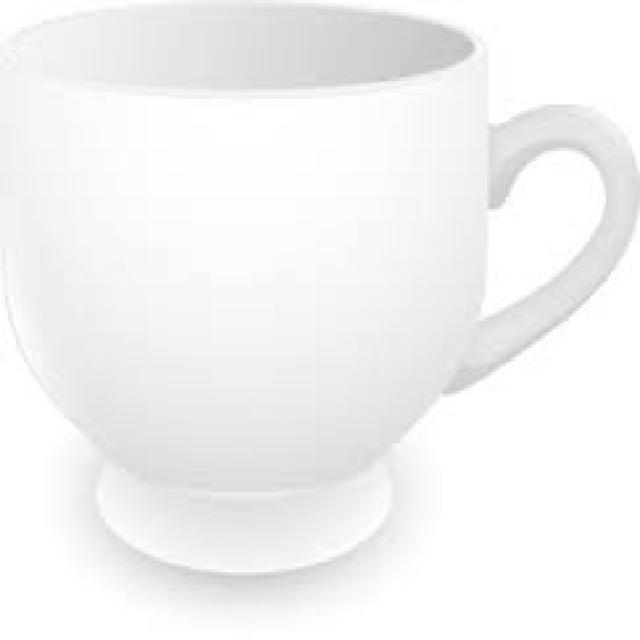taza: (0, 6, 640, 510)
